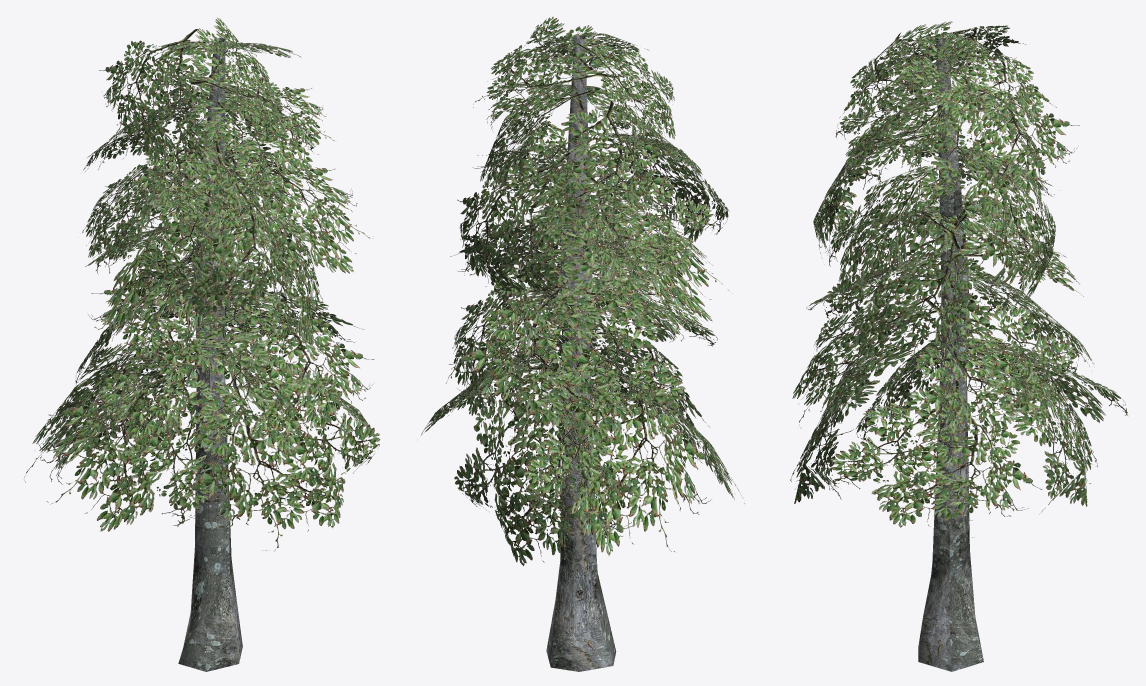
Rendered from tree1.FBX.
3 renders of one model, left to right at view 1: azimuth 30°, elevation 25°; view 2: azimuth 150°, elevation 25°; view 3: azimuth 270°, elevation 25°, orthographic.
Parts seen in each view (by area): view 1: tree1; view 2: tree1; view 3: tree1.
Boxes of the visible parts, <box> form: tree1: <box>24,17,380,671</box>; tree1: <box>421,17,744,671</box>; tree1: <box>790,21,1127,671</box>.
Bounding box in the file's own units: 49.61 × 93.5 × 46.78.
Materials: 2 (2 with a texture image).
